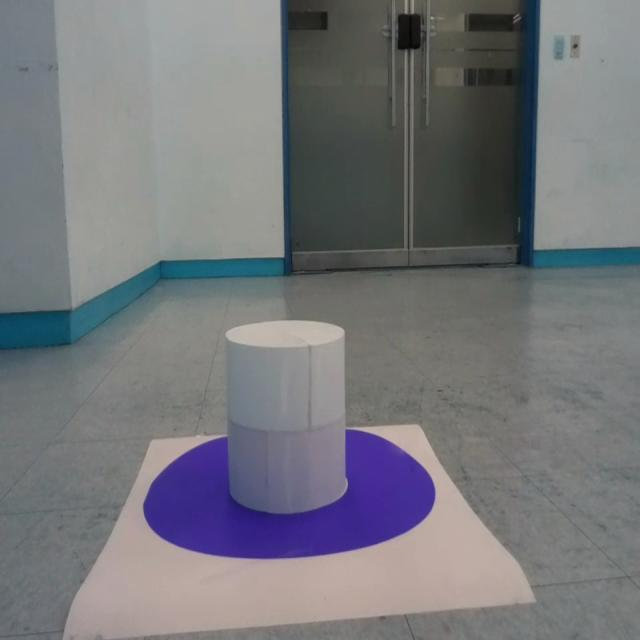cylinder: (224, 320, 348, 514)
